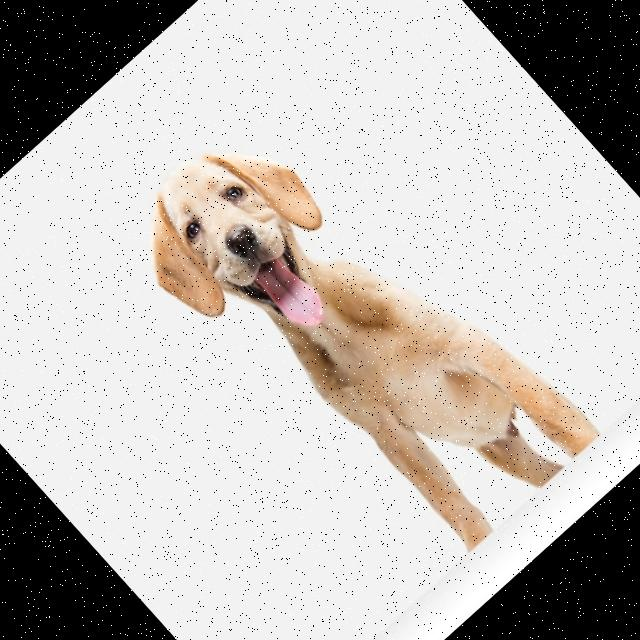Dog: (109, 75, 604, 589)
